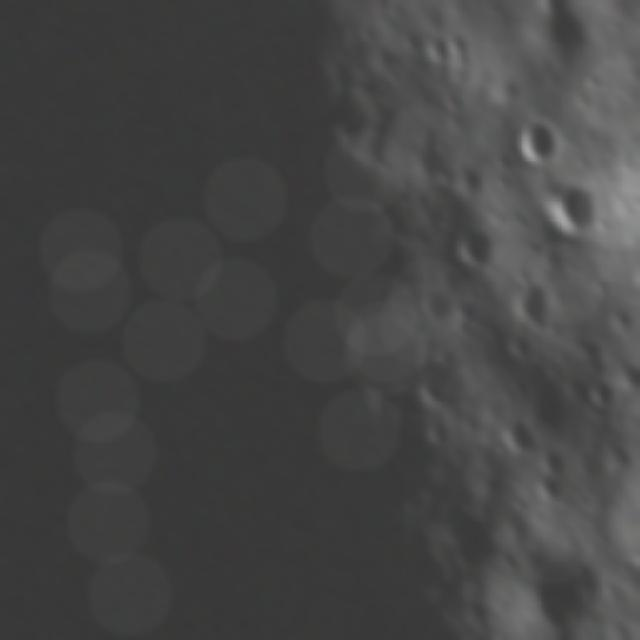crater: (514, 538, 604, 640), (524, 0, 598, 69), (546, 177, 605, 237), (413, 354, 470, 408), (509, 271, 562, 326), (511, 114, 562, 164), (444, 219, 501, 263), (416, 278, 458, 322), (581, 372, 617, 416), (500, 414, 538, 454), (424, 34, 468, 63), (528, 471, 563, 502), (536, 438, 566, 474)
